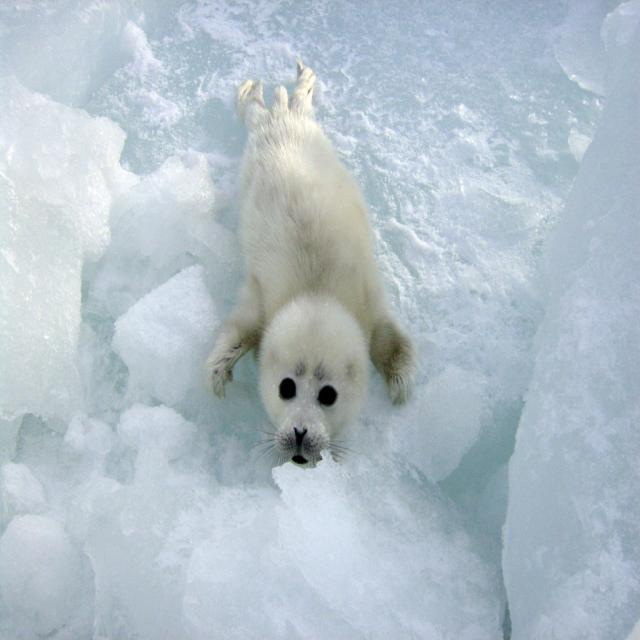Bear: (202, 56, 423, 470)
